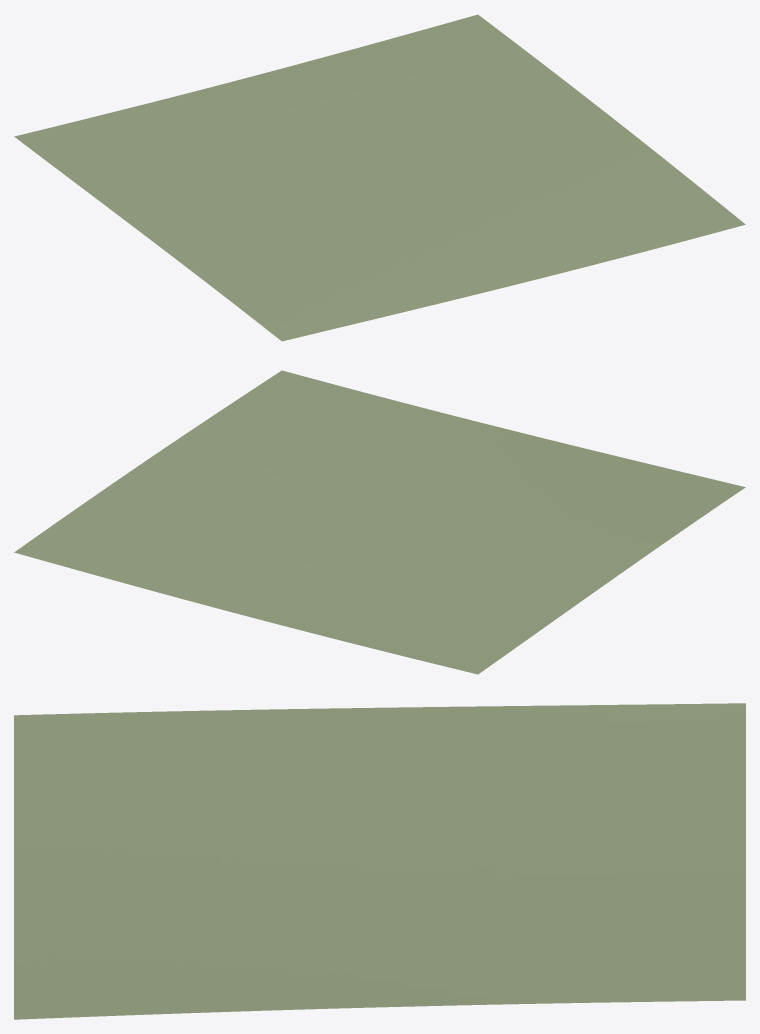
File: expanse-6-3.glb
The picture shows the model from 3 angles, top to bottom: view 1: azimuth 30°, elevation 25°; view 2: azimuth 150°, elevation 25°; view 3: azimuth 270°, elevation 25°; orthographic projection. The views are drawn at different scales.
Parts seen in each view (by area): view 1: expanse-6-3; view 2: expanse-6-3; view 3: expanse-6-3.
Part boxes in pixels (bbox=[...]): expanse-6-3: bbox=[14, 14, 745, 341]; expanse-6-3: bbox=[14, 370, 745, 674]; expanse-6-3: bbox=[14, 703, 745, 1019].
Size of the model in its own units: 256 by 9.56 by 256.
